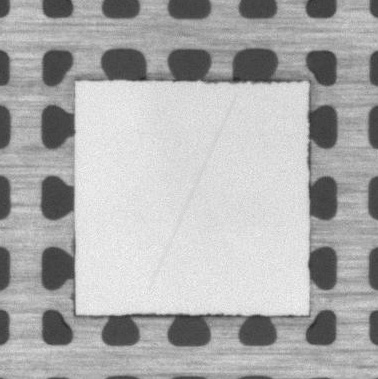DIE_CRACK: (149, 95, 235, 290)
